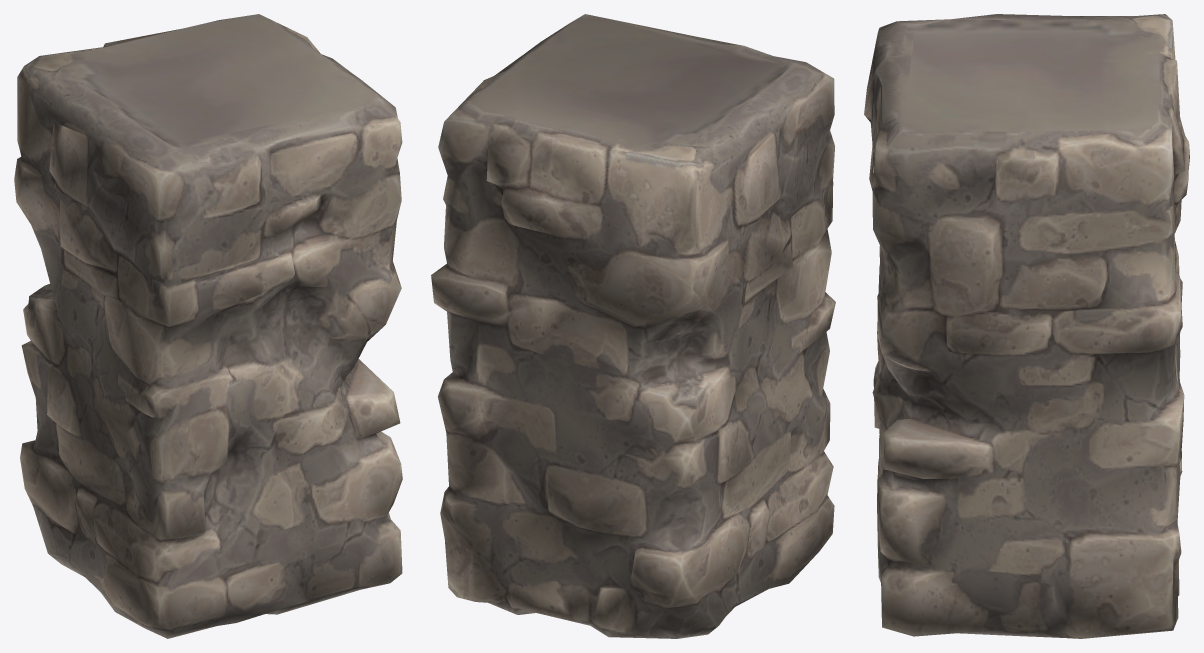
The model's file is Pillar_A_Light.fbx.
The picture shows the model from 3 angles, left to right: view 1: azimuth 30°, elevation 25°; view 2: azimuth 150°, elevation 25°; view 3: azimuth 270°, elevation 25°; orthographic projection. The views are drawn at different scales.
Parts seen in each view (by area): view 1: Dn_HL_UND_Pillars_A_01.001; view 2: Dn_HL_UND_Pillars_A_01.001; view 3: Dn_HL_UND_Pillars_A_01.001.
Boxes of the visible parts, left/top/right/bottom form: Dn_HL_UND_Pillars_A_01.001: left=14, top=14, right=402, bottom=638; Dn_HL_UND_Pillars_A_01.001: left=431, top=14, right=835, bottom=638; Dn_HL_UND_Pillars_A_01.001: left=864, top=14, right=1189, bottom=638.
Size of the model in its own units: 3564 by 6078 by 3517.
